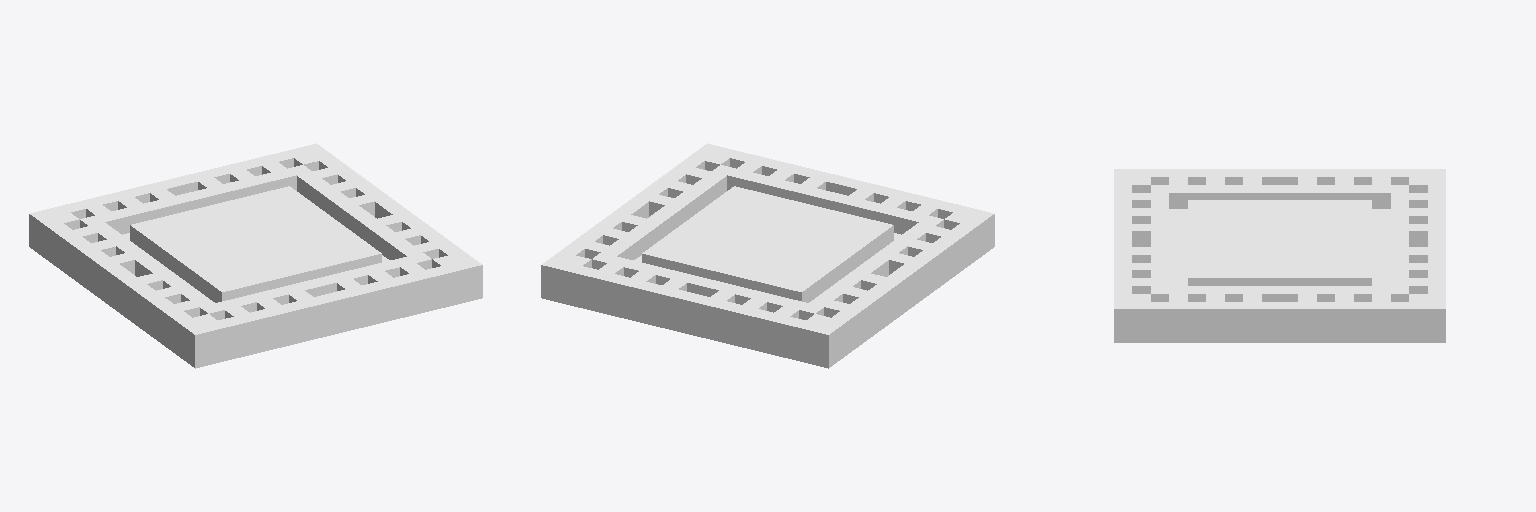
Rendered from FloorTile5.obj.
3 renders of one model, left to right at view 1: azimuth 30°, elevation 25°; view 2: azimuth 150°, elevation 25°; view 3: azimuth 270°, elevation 25°, orthographic.
Visible parts, largest first — view 1: object 1; view 2: object 1; view 3: object 1.
Part boxes in pixels (x1,y1,x2,y2): object 1: (29, 143, 482, 368); object 1: (541, 143, 994, 368); object 1: (1114, 169, 1445, 342).
Size of the model in its own units: 1.8 by 0.2 by 1.8.